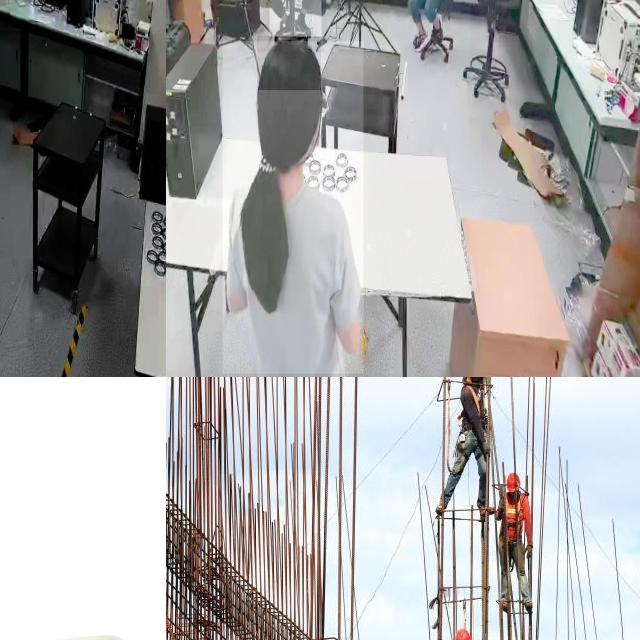boots: (522, 597, 532, 609), (436, 504, 446, 514), (500, 599, 508, 611), (480, 505, 489, 514)
hand_glove: (482, 438, 491, 459), (524, 546, 534, 560)
head_helmet: (507, 471, 523, 493), (455, 629, 473, 640)
head_nohelmet: (257, 36, 321, 91)
person: (222, 41, 364, 375), (492, 465, 543, 624), (407, 0, 471, 56), (269, 0, 322, 36)
shoes: (293, 9, 313, 37), (412, 29, 432, 56), (432, 9, 443, 43)
